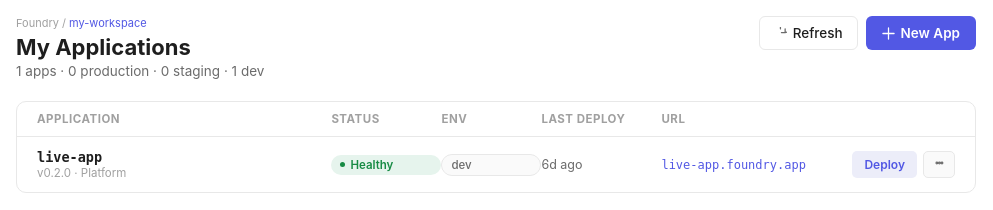
DashboardScreen › marks the row as error when the deploy request fails
Expected: the text "live-app" is shown, [37,149,102,165]
Click the button "Deploy" at (885, 164), box [852,151,917,178]
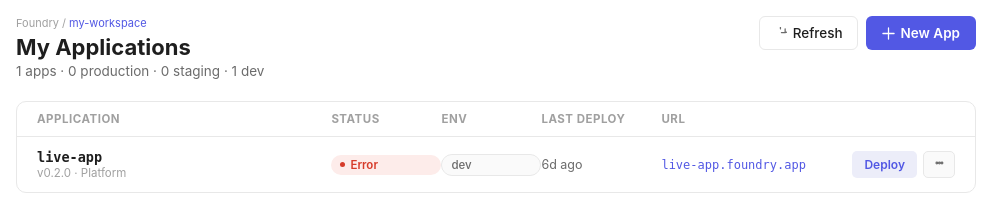
Expected: the text "Error" is shown, [331,154,441,174]
